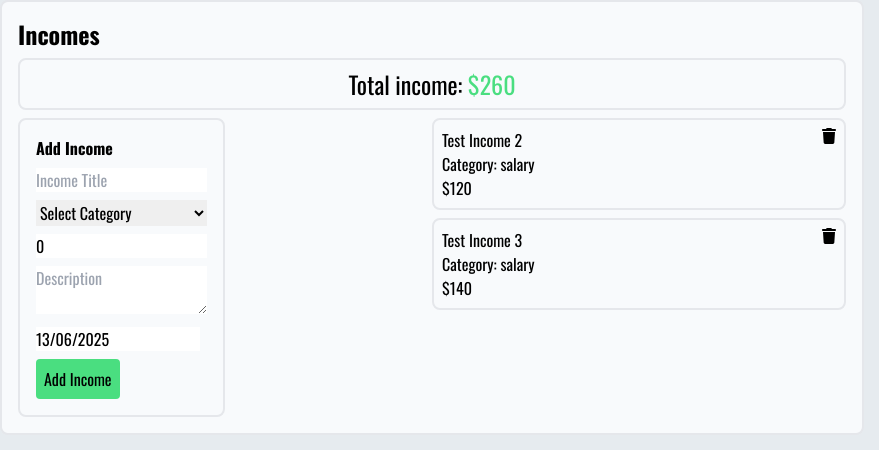
List Incomes › When incomes are provided from the API › Delete Incomes › When the delete income button is clicked › should remove the income from the list
Step 1. Click the picture with test id "delete-income-123" → (829, 136), box [822,128,836,144]
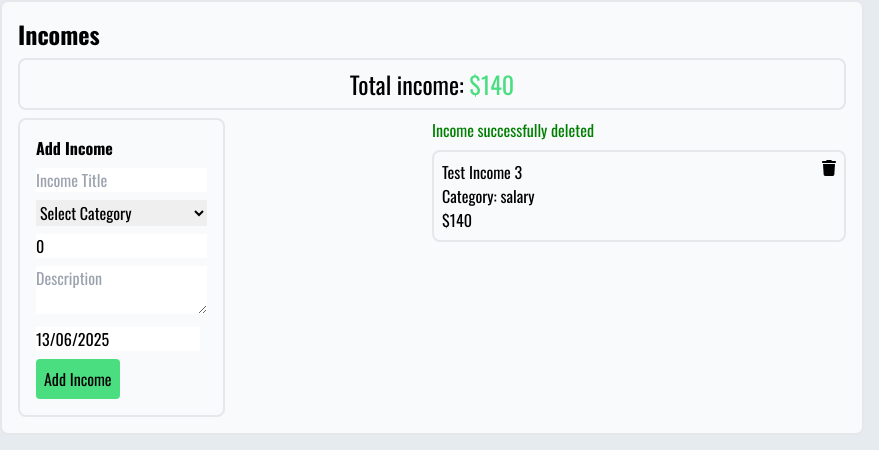
Expected: the text with test id "return-promise-message" reads "Income successfully deleted", [432,118,594,142]
Expected: the text "Test Income 2" is gone
